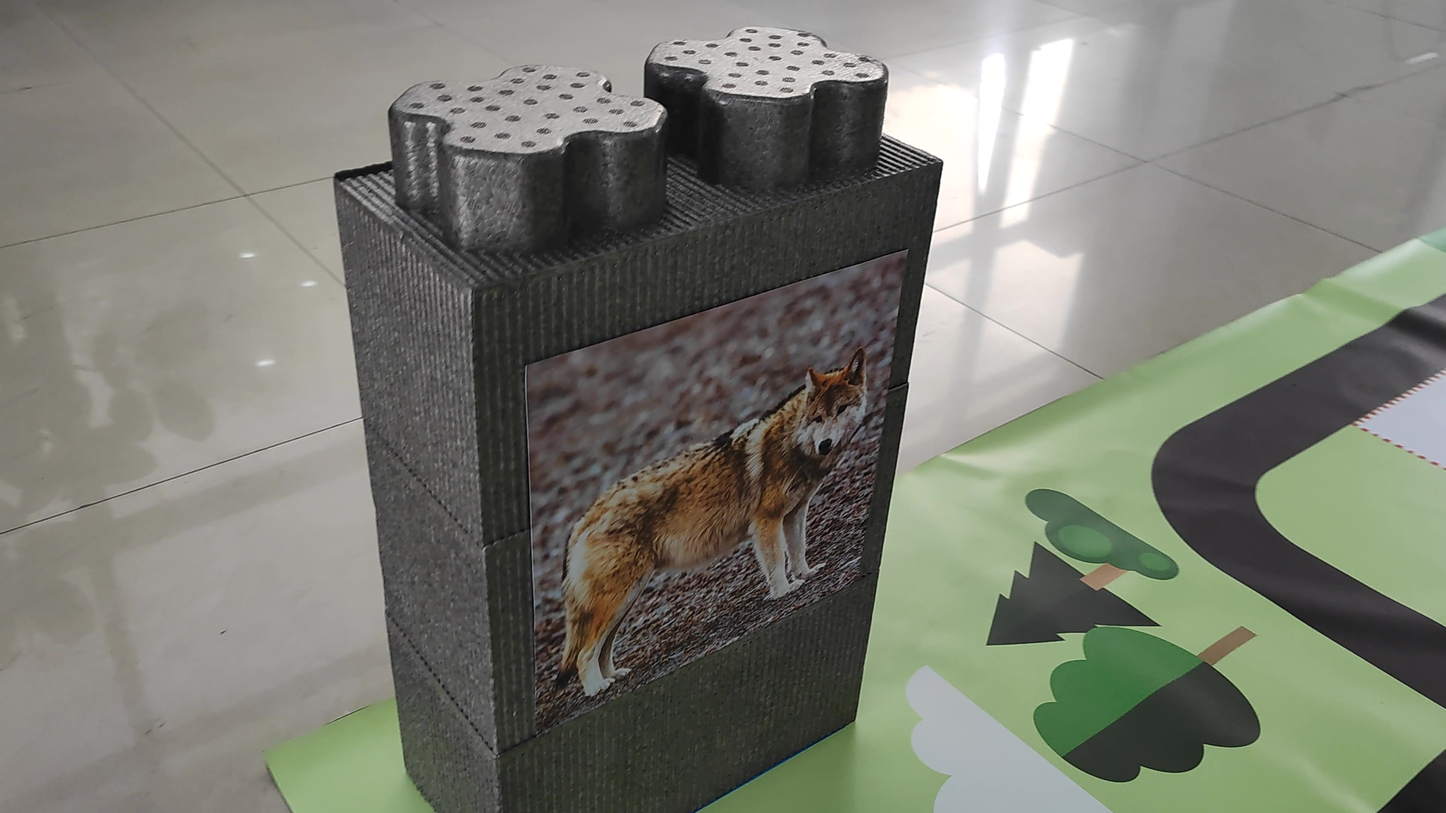wolf: (533, 328, 874, 692)
